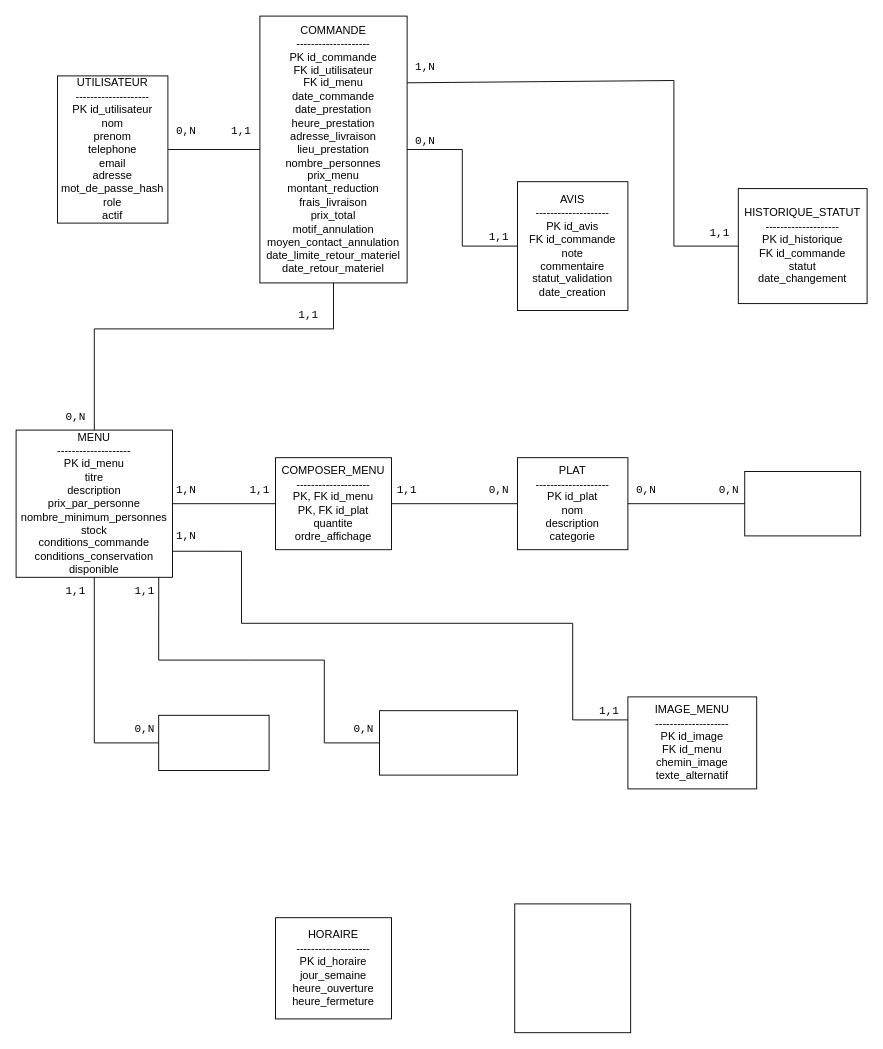
This 883x1049 diagram has some shape labels left out. The shapes that lost their labels are listed below. From the top down, each one's centre as x and y in pixels, then its label:
point (802, 503): ALLERGENE -------------------- PK id_allergene nom
point (213, 742): THEME -------------------- PK id_theme nom
point (448, 742): REGIME_ALIMENTAIRE -------------------- PK id_regime nom
point (572, 968): CONTACT -------------------- PK id_contact nom email sujet message date_envoi
